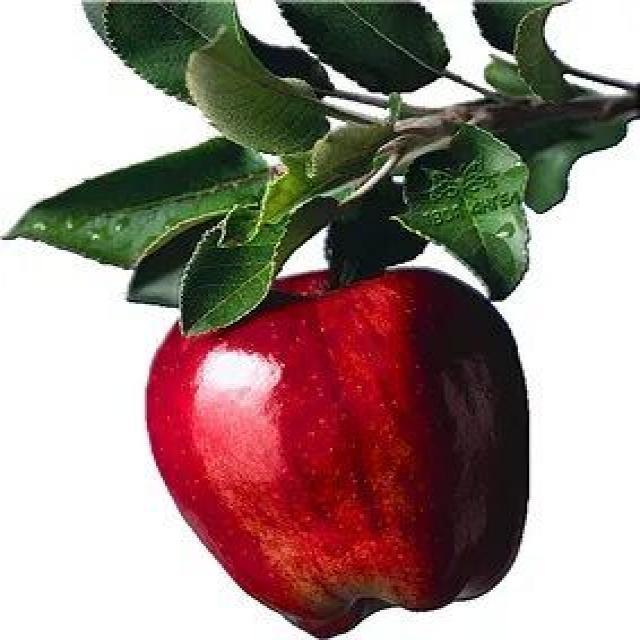Rotten: (156, 268, 446, 622)
